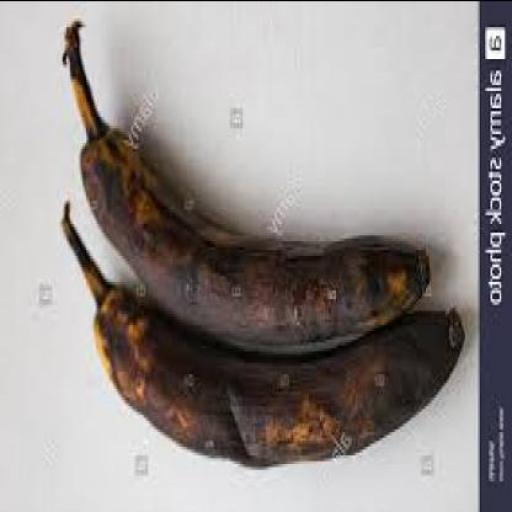biodegradable: (61, 17, 428, 350), (60, 193, 463, 469)
